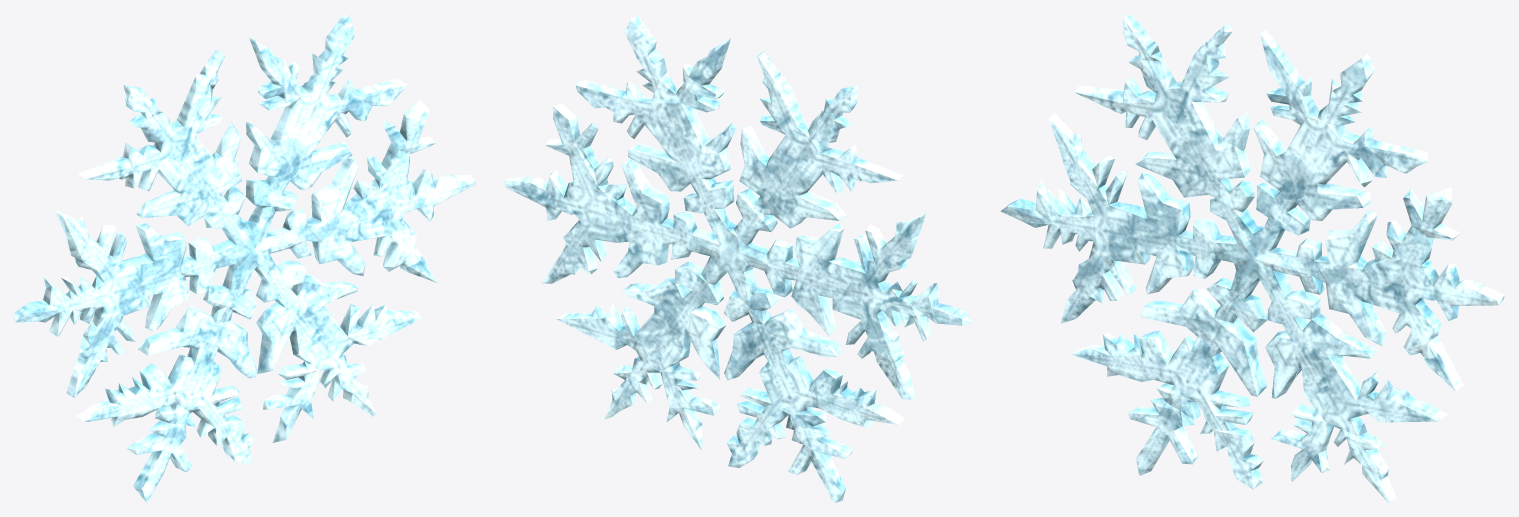
The model's file is crystal.glb.
3 renders of one model, left to right at view 1: azimuth 30°, elevation 25°; view 2: azimuth 150°, elevation 25°; view 3: azimuth 330°, elevation 25°, orthographic. The views are drawn at different scales.
Parts seen in each view (by area): view 1: Object_2; view 2: Object_2; view 3: Object_2.
Part boxes in pixels (box(x1,y1,x2,y2)): Object_2: box(14, 14, 475, 502); Object_2: box(504, 14, 971, 502); Object_2: box(1000, 14, 1504, 502).
Size of the model in its own units: 1.98 by 1.78 by 0.0656.
Materials: 1 (1 with a texture image).
